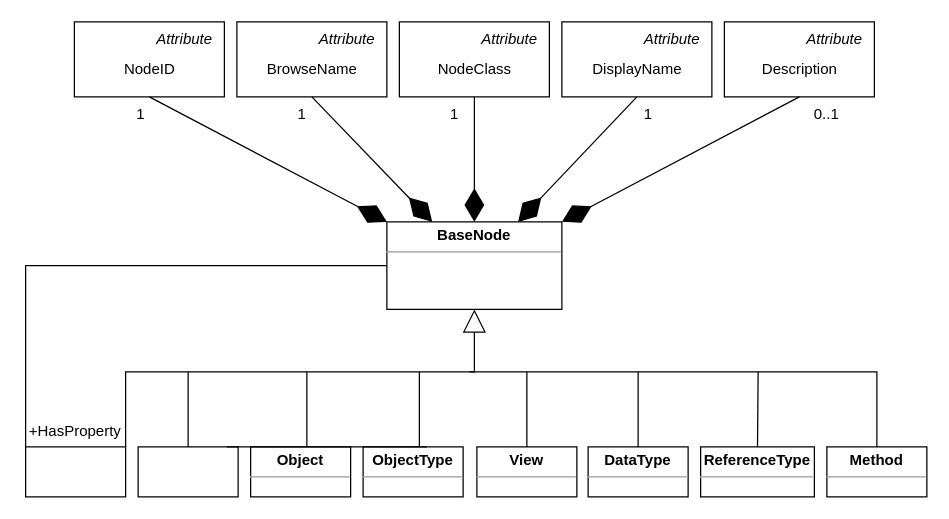
Image size: 949x519. Some labels were removed from this diagram. Here are the shapes that lost their labels. From the top down, the box of each, then its label:
(24, 446, 126, 497): Variable
(137, 446, 238, 497): VariableType
